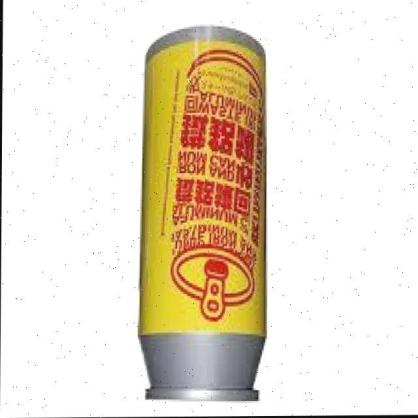can: (135, 26, 270, 404)
